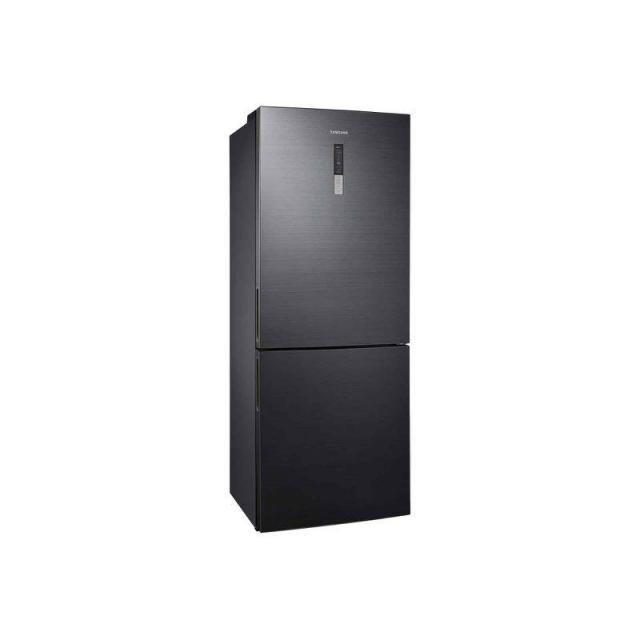refrigerator: (248, 107, 411, 529)
